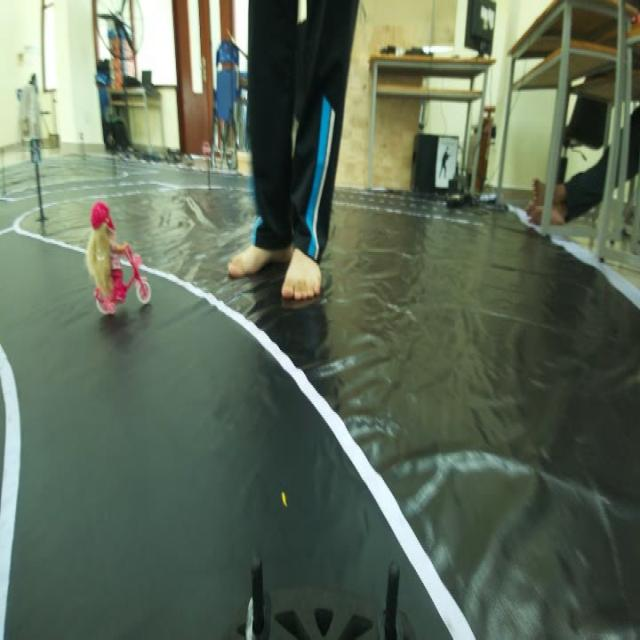pedestrian: (78, 203, 155, 317)
